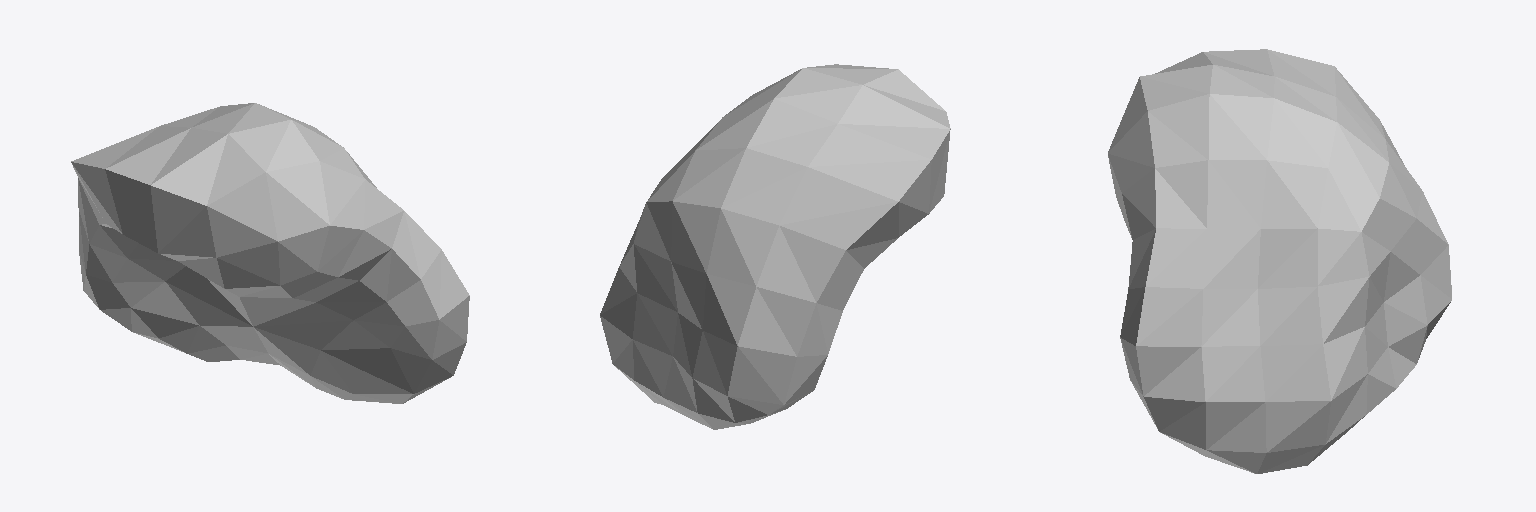
The model's file is Asteroid2.obj.
3 views of the same model, side by side, from view 1: azimuth 30°, elevation 25°; view 2: azimuth 150°, elevation 25°; view 3: azimuth 270°, elevation 25° (orthographic).
Parts seen in each view (by area): view 1: rock.018; view 2: rock.018; view 3: rock.018.
Boxes of the visible parts, <box> form: rock.018: <box>71,103,469,403</box>; rock.018: <box>600,64,950,429</box>; rock.018: <box>1108,49,1451,473</box>.
Size of the model in its own units: 1.01 by 0.9871 by 0.9511.